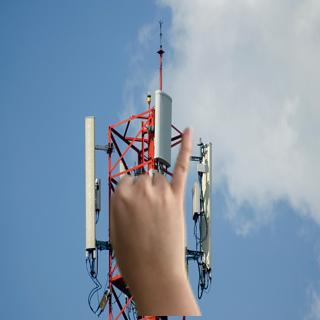FINE: (102, 121, 200, 287)
